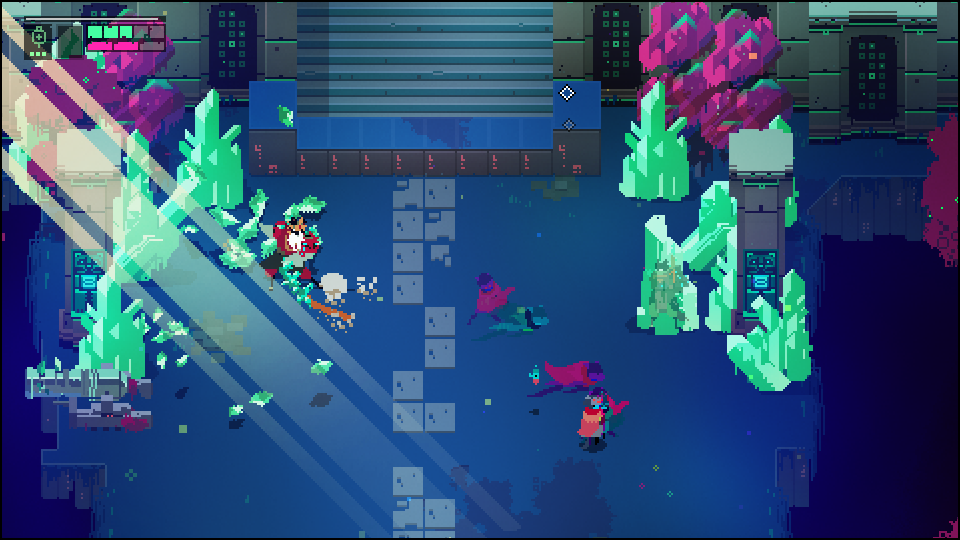hanged_man: (267, 215, 334, 315)
player: (575, 393, 604, 444)
